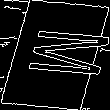M_E: (3, 28, 107, 82)
